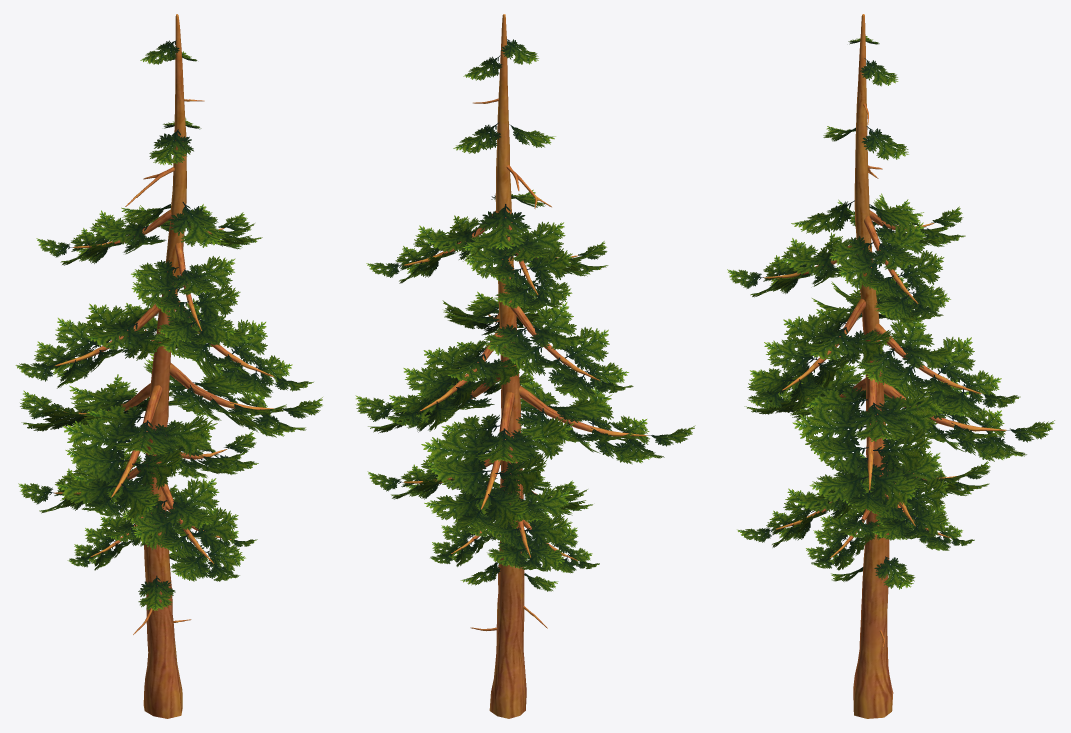
The model's file is stylized_pine_var2.glb.
The picture shows the model from 3 angles, left to right: view 1: azimuth 30°, elevation 25°; view 2: azimuth 150°, elevation 25°; view 3: azimuth 270°, elevation 25°; orthographic projection.
Parts seen in each view (by area): view 1: stylized_pine_var2; view 2: stylized_pine_var2; view 3: stylized_pine_var2.
Part boxes in pixels (x1,y1,x2,y2): stylized_pine_var2: (15, 14, 322, 718); stylized_pine_var2: (355, 14, 695, 718); stylized_pine_var2: (727, 14, 1054, 718).
Bounding box in the file's own units: 637 × 1433 × 613.
2 materials, 2 textured.
